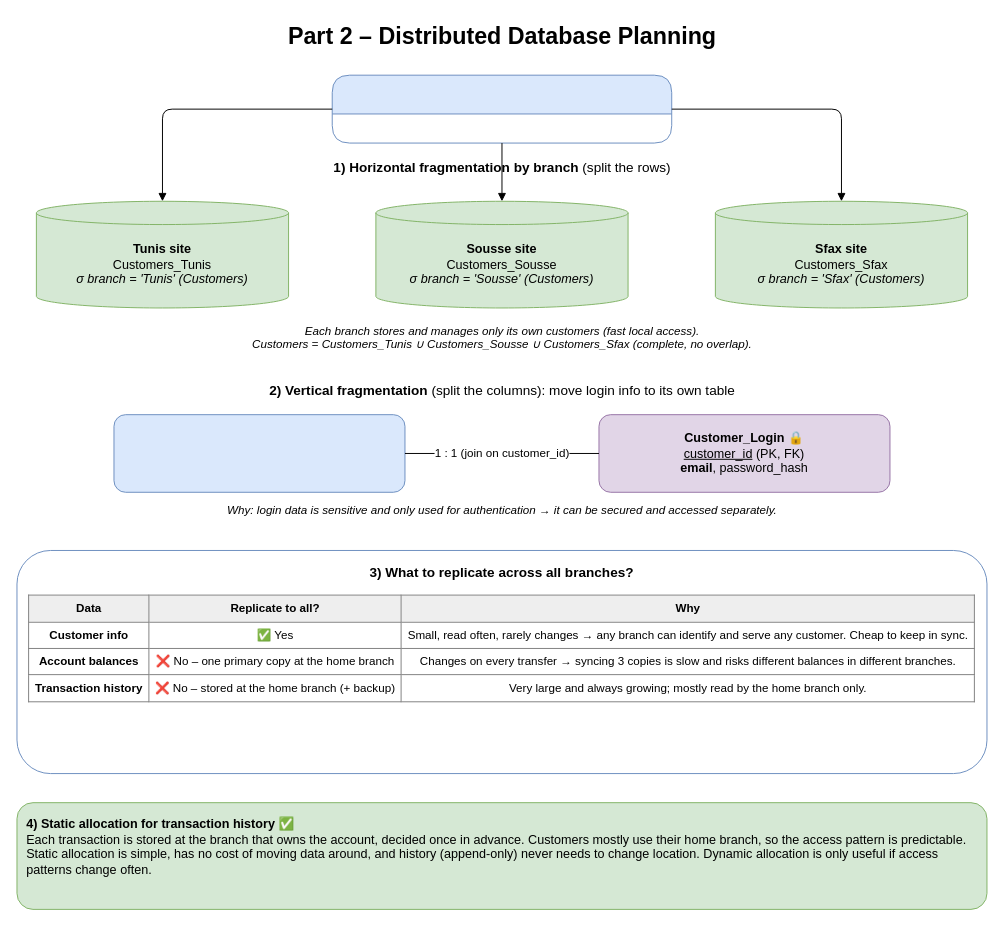
Some shapes in this 1004 by 926 pixel diagram are drawn without their labels. Each missing label, with the box of its shape:
Customers (global table) customer_id, name, phone, address, branch: (331, 74, 672, 143)
Customers customer_id (PK) name, phone, address, branch: (113, 414, 405, 492)
